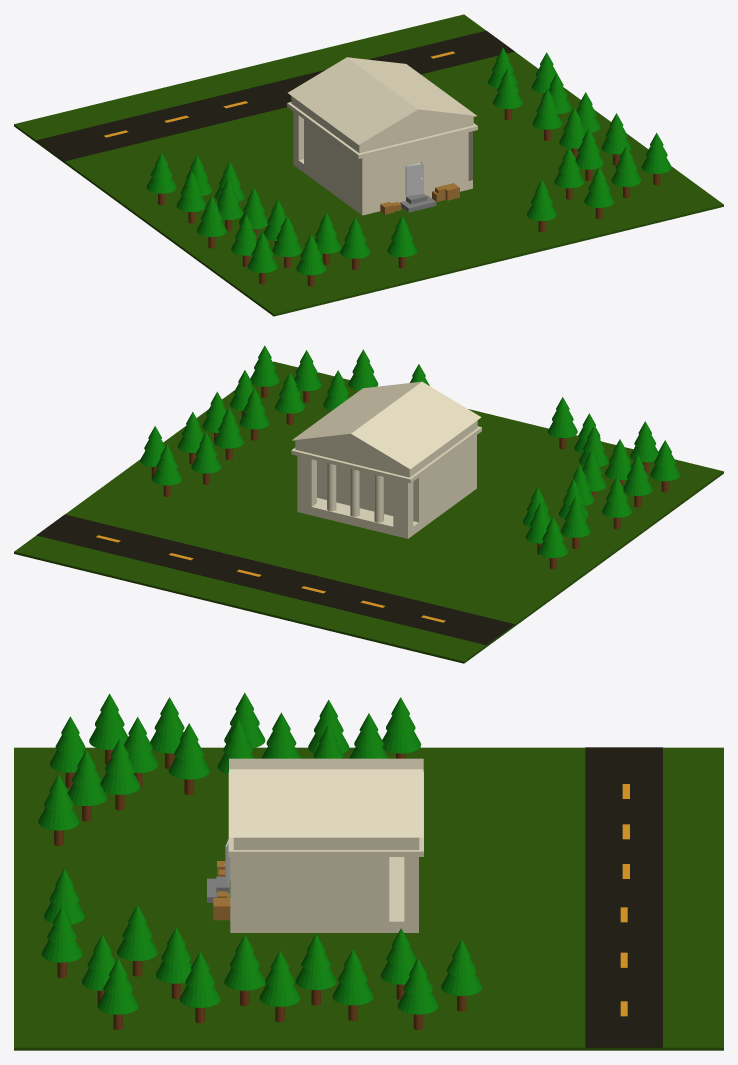
Rendered from museum ext.gltf.
3 views of the same model, one above another, from view 1: azimuth 30°, elevation 25°; view 2: azimuth 150°, elevation 25°; view 3: azimuth 270°, elevation 25° (orthographic). The views are drawn at different scales.
Visible parts, largest first — view 1: Cube, Cube.012, Circle, Cube.001, Cube.010, Cube.009, Cube.011; view 2: Cube, Cube.012, Circle, Cube.001, Cube.010, Cube.009; view 3: Cube, Cube.012, Circle, Cube.001, Cube.010, Cube.009, Cone.063, Cone.078, Cone.084, Cone.057, Cone.060, Cone.012 (+11 smaller).
Part boxes in pixels (x1,y1,x2,y2): Cube: [14, 14, 723, 316]; Cube.012: [36, 30, 514, 161]; Circle: [288, 57, 476, 144]; Cube.001: [293, 111, 472, 215]; Cube.010: [291, 96, 473, 153]; Cube.009: [287, 102, 477, 158]; Cube.011: [405, 163, 423, 196]; Cube: [14, 361, 723, 663]; Cube.012: [36, 514, 514, 644]; Circle: [292, 381, 481, 469]; Cube.001: [297, 435, 476, 538]; Cube.010: [295, 420, 477, 477]; Cube.009: [291, 426, 481, 483]; Cube: [14, 747, 723, 1050]; Cube.012: [585, 747, 662, 1047]; Circle: [229, 758, 423, 837]; Cube.001: [230, 857, 418, 932]; Cube.010: [233, 837, 419, 849]; Cube.009: [228, 772, 423, 856]; Cone.063: [332, 983, 373, 1005]; Cone.078: [179, 985, 220, 1007]; Cone.084: [441, 973, 482, 995]; Cone.057: [41, 940, 82, 962]; Cone.060: [259, 984, 300, 1006]; Cone.012: [168, 757, 209, 779].
Bounding box in the file's own units: 100 × 20.2 × 100.
